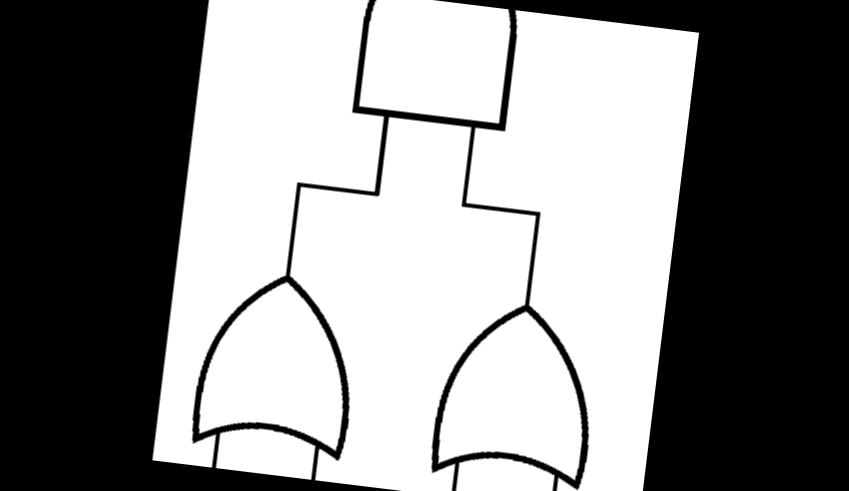and: (331, 0, 532, 148)
or: (178, 254, 374, 478), (410, 281, 613, 491)
